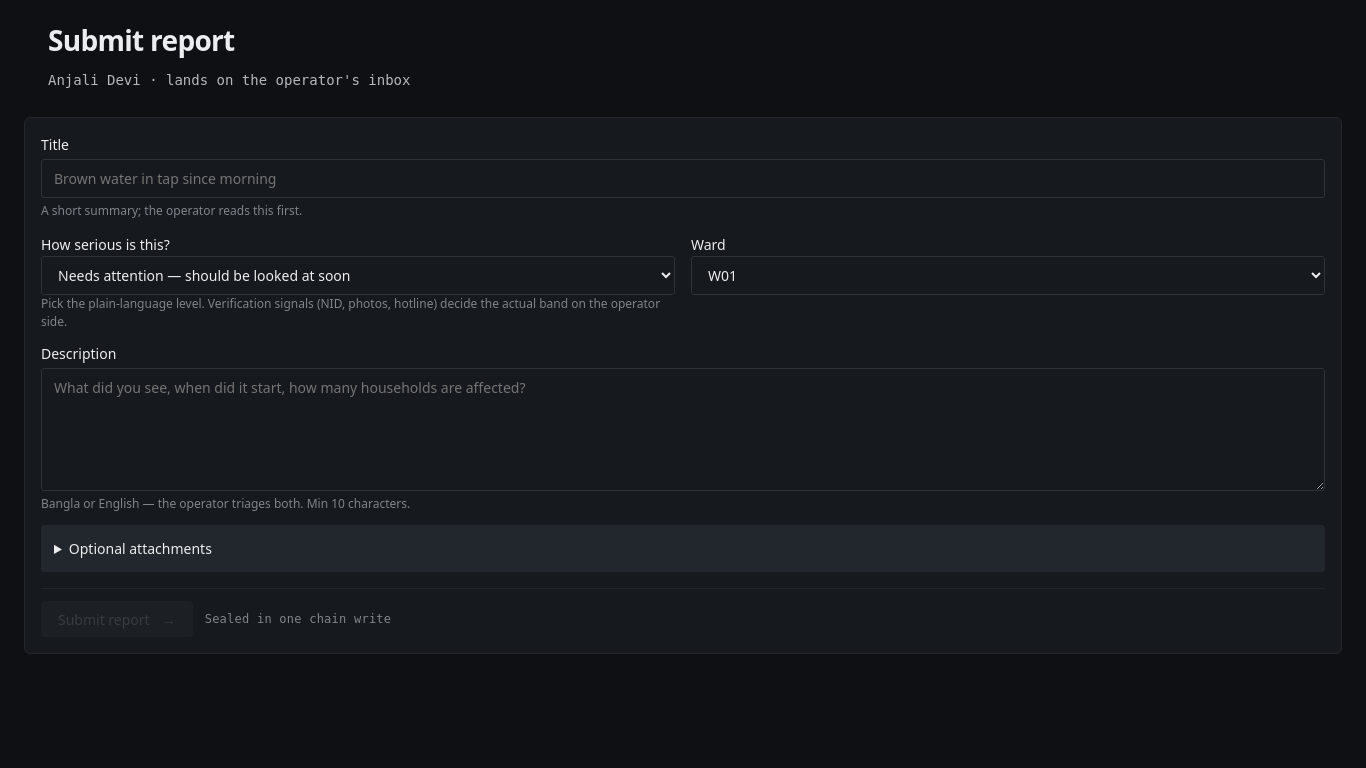
Test: FE-F2 /submit success state › success_state_renders_receipt_with_event_id: receipt renders the chain ref from the hook
Step 1. Type "Brown water in ward 4" into the field with test id "submit-title" → (683, 179), box [41,159,1325,198]
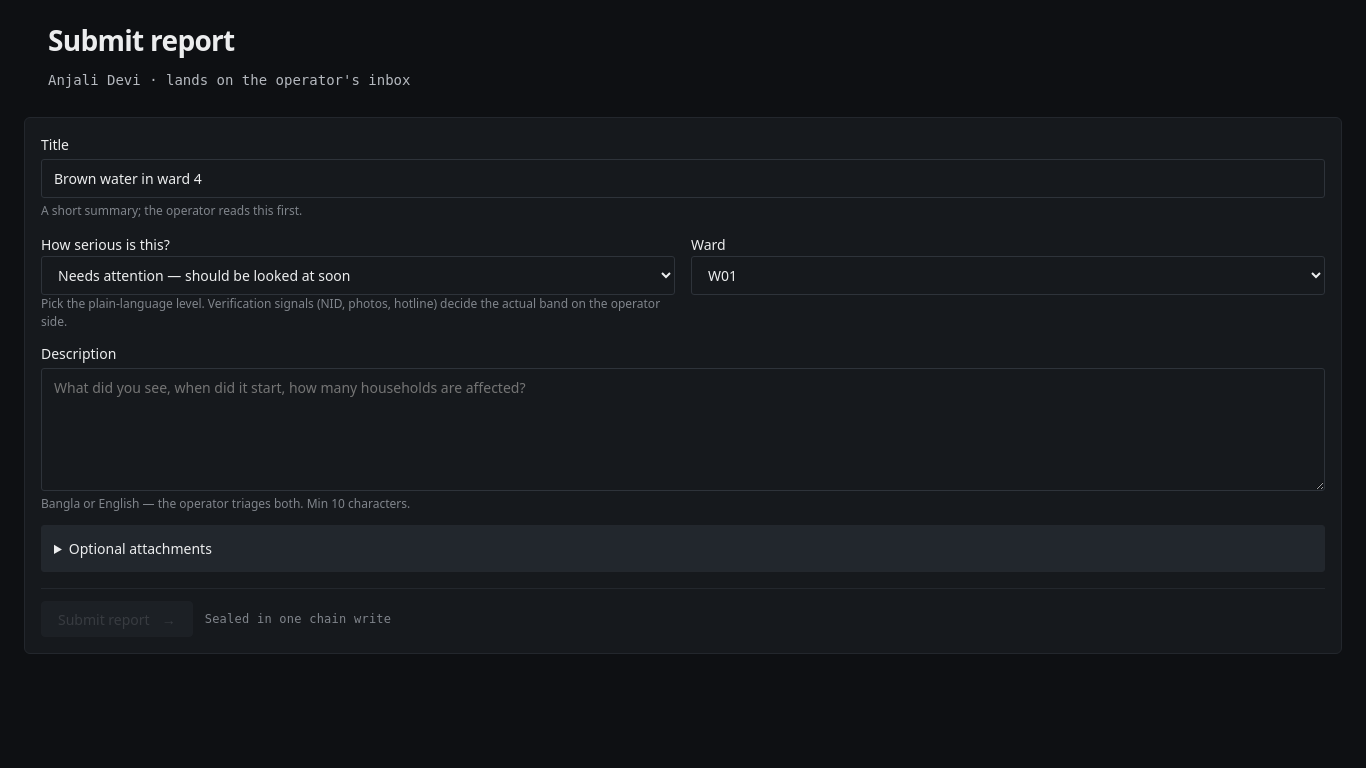
Step 2. Replace the text in the text box with test id "submit-description" with "Reported by 3 households since 6am" → (683, 430), box [41,368,1325,491]
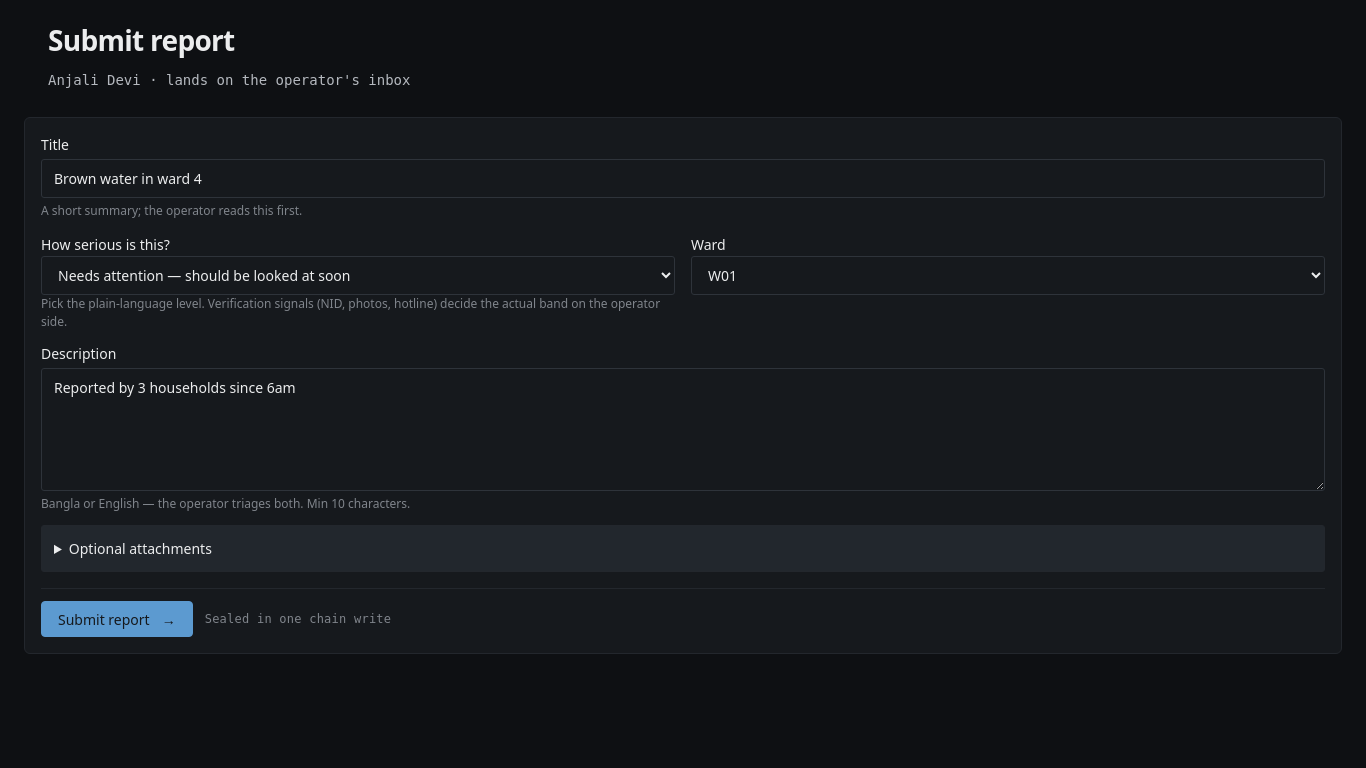
Step 3. Click the button with test id "submit-submit" → (117, 619), box [41,601,193,637]
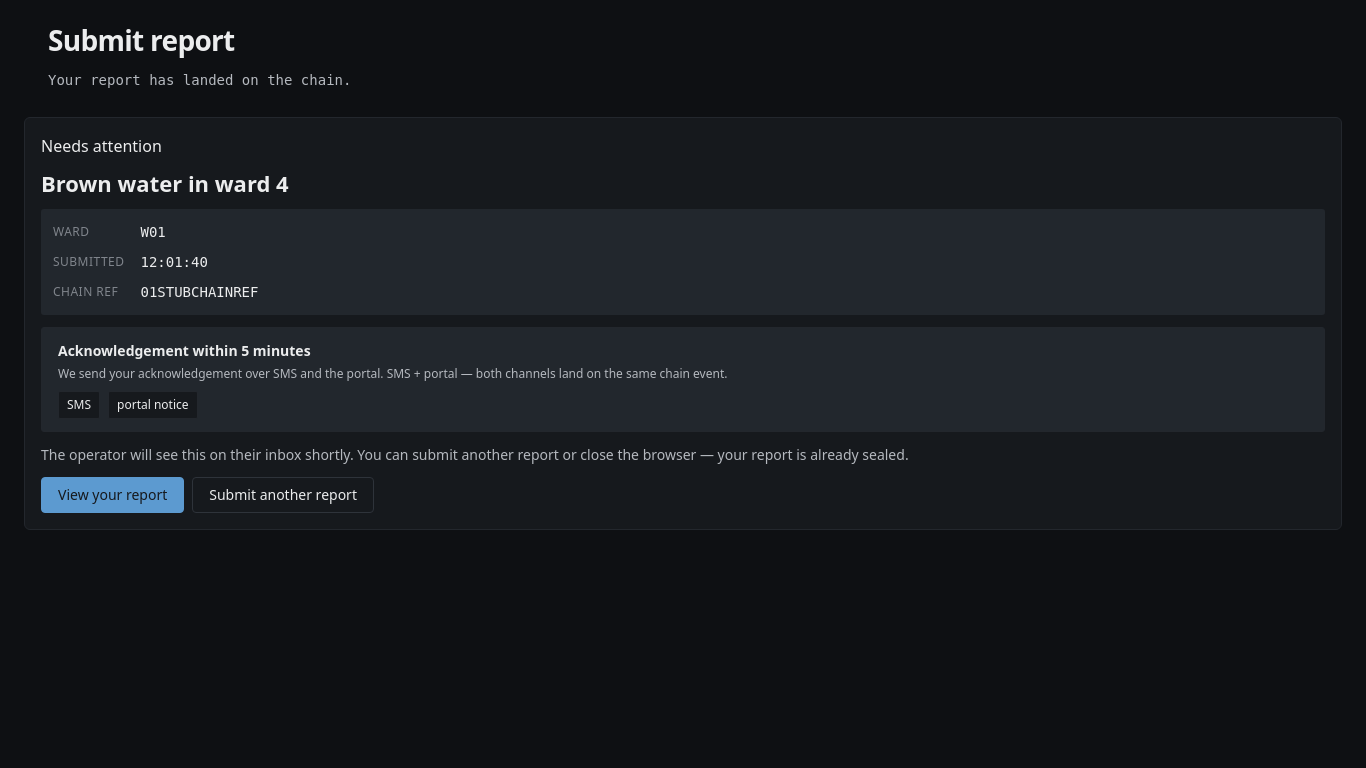
Now the element with test id "submit-receipt-card" is shown, box [24,117,1342,530]
Now the form with test id "submit-form" is gone
Now the text with test id "submit-receipt-event-id" reads "01STUBCHAINREF", box [140,284,258,300]
